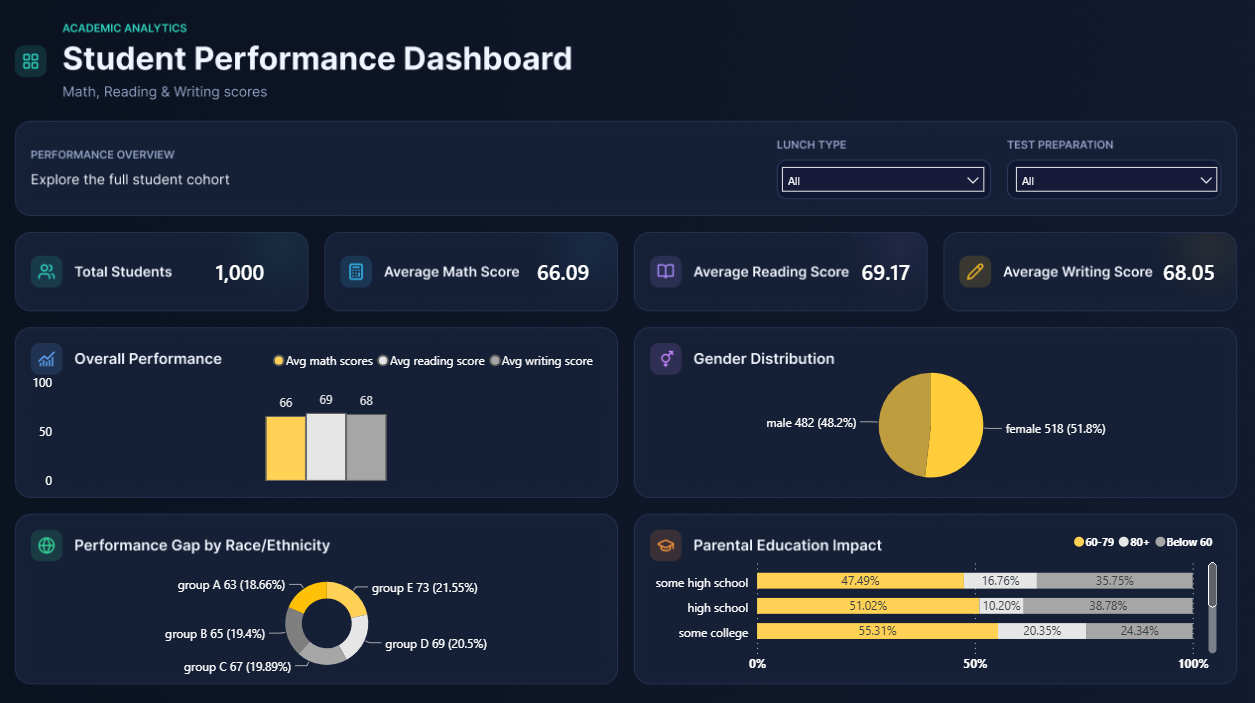

Layout of this report page (visuals, bound fields, positions):
{"tool":"powerbi","page":{"name":"Overview","canvas":[1280,1080],"ordinal":0},"visuals":[{"type":"slicer","fields":{"Values":["study_performance.test_preparation_course"]},"box":[994.9,164.1,192,62],"z":0,"group":"g2"},{"type":"group","id":"g1","title":"Group 1","box":[66,266,1136,150],"z":0},{"type":"cardVisual","fields":{"Data":["_measures.students number"]},"box":[66,266,246,150],"z":0,"group":"g1"},{"type":"group","id":"g2","title":"Group 2","box":[794.9,164.1,391,62.8],"z":1000},{"type":"slicer","fields":{"Values":["study_performance.lunch"]},"box":[794.9,164.1,192,62],"z":1000,"group":"g2"},{"type":"cardVisual","fields":{"Data":["_measures.Avg writing score"]},"box":[956,266,246,150],"z":1000,"group":"g1"},{"type":"cardVisual","fields":{"Data":["_measures.Avg reading score"]},"box":[659.3,266,246,150],"z":2000,"group":"g1"},{"type":"clusteredColumnChart","fields":{"Y":["_measures.Avg math scores","_measures.Avg reading score","_measures.Avg writing score"]},"box":[86.2,512.1,493.1,270.7],"z":2000},{"type":"cardVisual","fields":{"Data":["_measures.Avg math scores"]},"box":[362.7,266,246,150],"z":3000,"group":"g1"},{"type":"pieChart","fields":{"Category":["study_performance.gender"],"Y":["CountNonNull(study_performance.Student ID)"]},"box":[670.7,525.9,515.5,256.9],"z":3000},{"type":"donutChart","fields":{"Category":["study_performance.race_ethnicity"],"Y":["_measures.Avg Overall Score"]},"box":[59,847,543,232],"z":4000},{"type":"hundredPercentStackedBarChart","fields":{"Series":["study_performance.Score Band"],"Category":["study_performance.parental_level_of_education"],"Y":["CountNonNull(study_performance.Student ID)"]},"box":[639.7,846.6,579.3,232.8],"z":5000}]}

Visuals, with their boxes on the page's 1280x1080 design canvas (x1, y1, x2, y2). These are canvas units, not pixel positions in the 1255x703 screenshot, which may show the page scaled, cropped or inside an application window:
slicer - study_performance.test_preparation_course: {"left": 995, "top": 164, "right": 1187, "bottom": 226}
"Group 1" group: {"left": 66, "top": 266, "right": 1202, "bottom": 416}
cardVisual - _measures.students number: {"left": 66, "top": 266, "right": 312, "bottom": 416}
"Group 2" group: {"left": 795, "top": 164, "right": 1186, "bottom": 227}
slicer - study_performance.lunch: {"left": 795, "top": 164, "right": 987, "bottom": 226}
cardVisual - _measures.Avg writing score: {"left": 956, "top": 266, "right": 1202, "bottom": 416}
cardVisual - _measures.Avg reading score: {"left": 659, "top": 266, "right": 905, "bottom": 416}
clusteredColumnChart - _measures.Avg math scores x _measures.Avg reading score: {"left": 86, "top": 512, "right": 579, "bottom": 783}
cardVisual - _measures.Avg math scores: {"left": 363, "top": 266, "right": 609, "bottom": 416}
pieChart - study_performance.gender x CountNonNull(study_performance.Student ID): {"left": 671, "top": 526, "right": 1186, "bottom": 783}
donutChart - study_performance.race_ethnicity x _measures.Avg Overall Score: {"left": 59, "top": 847, "right": 602, "bottom": 1079}
hundredPercentStackedBarChart - study_performance.Score Band x study_performance.parental_level_of_education: {"left": 640, "top": 847, "right": 1219, "bottom": 1079}
